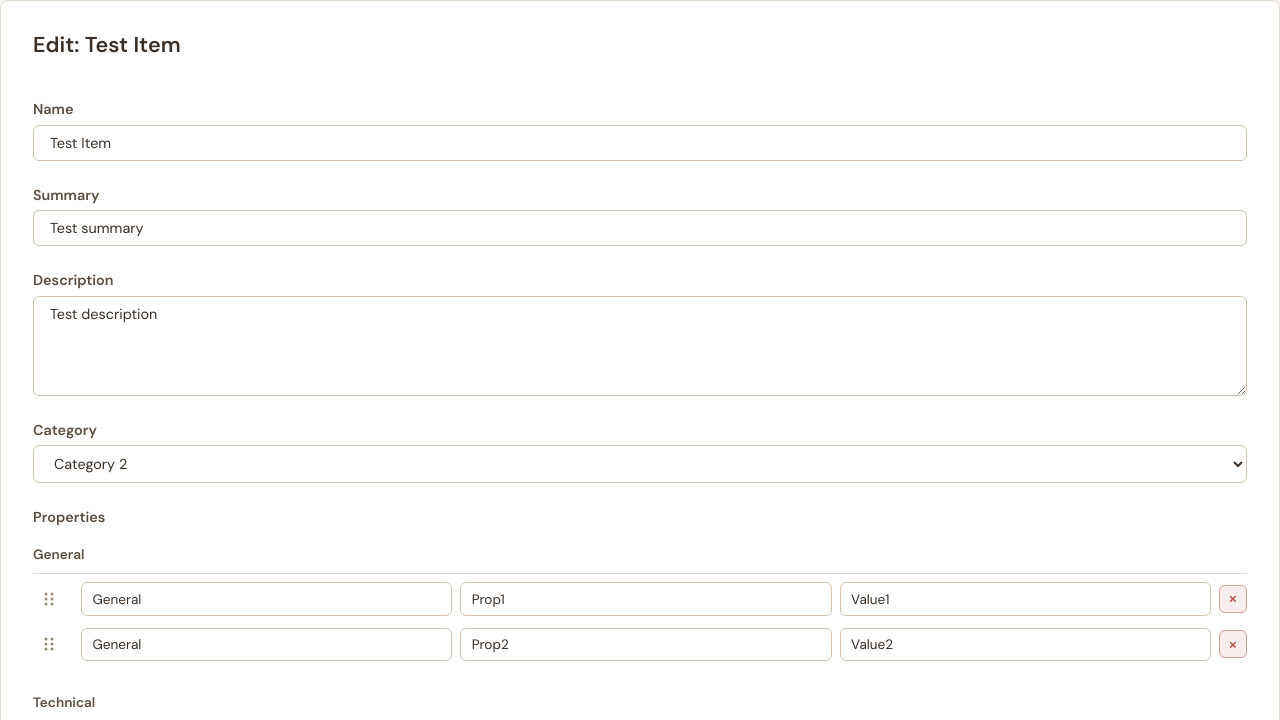
it: ItemEditor › edit mode › should disable save button when name is empty
Clear the field labelled "Name" at (640, 142), box [33, 124, 1247, 160]
(page scrolled)
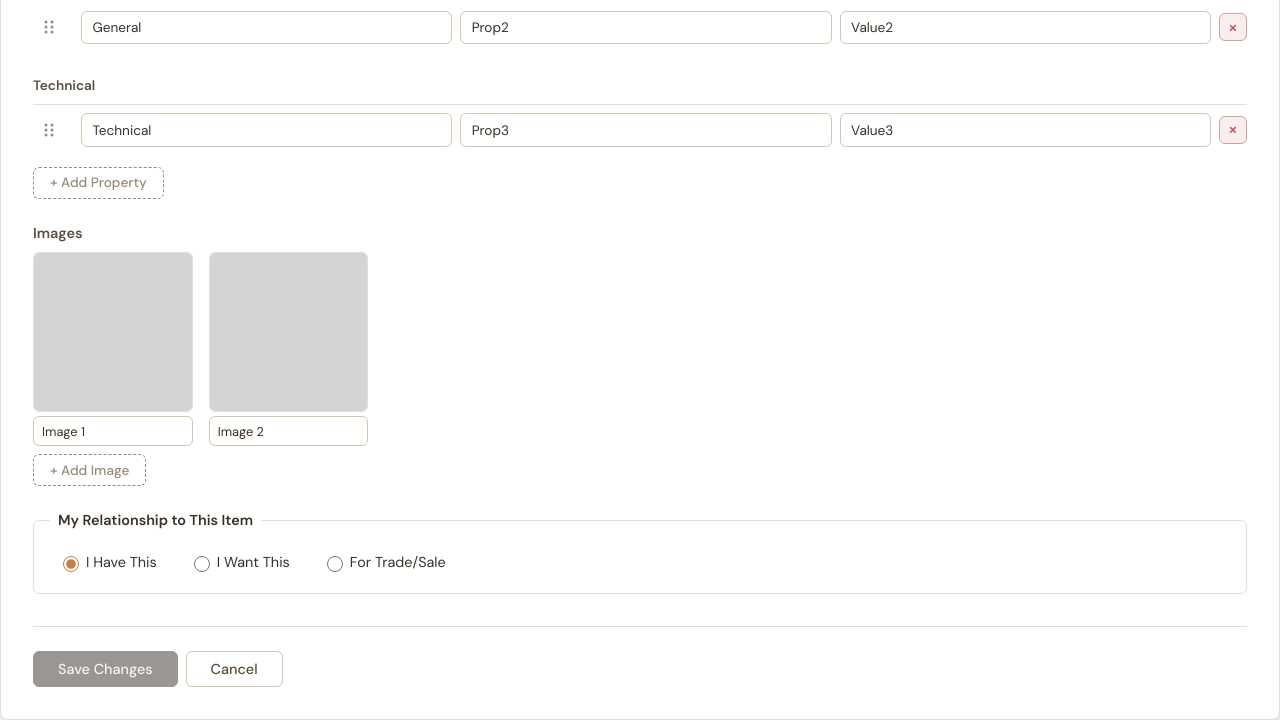
Check: the button "Save Changes" is disabled, box [33, 651, 178, 687]
